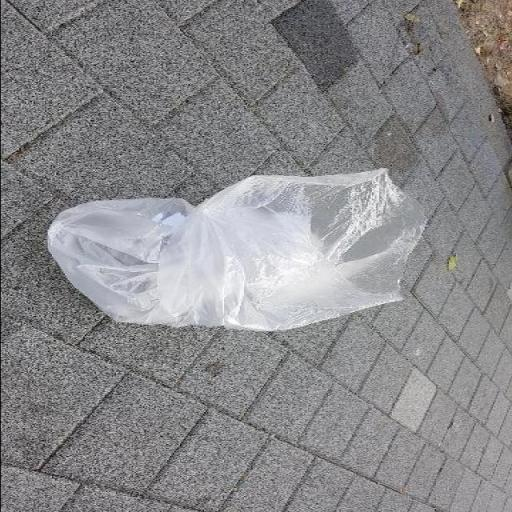plastic-bag: (42, 166, 430, 336)
